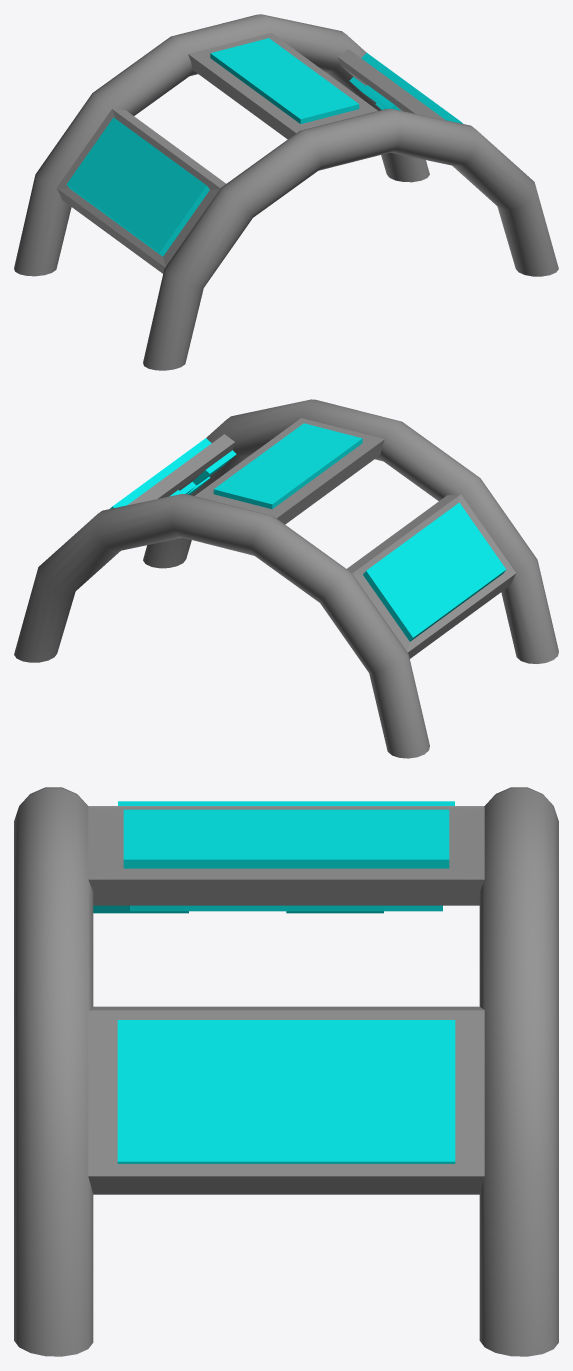
The model's file is Arch.fbx.
The picture shows the model from 3 angles, top to bottom: view 1: azimuth 30°, elevation 25°; view 2: azimuth 150°, elevation 25°; view 3: azimuth 270°, elevation 25°; orthographic projection. The views are drawn at different scales.
Parts seen in each view (by area): view 1: pTorus3; view 2: pTorus3; view 3: pTorus3.
Boxes of the visible parts, x1,y1,x2,y2 form: pTorus3: (14, 14, 558, 370); pTorus3: (14, 399, 558, 758); pTorus3: (14, 787, 558, 1356).
Bounding box in the file's own units: 164 × 75.75 × 105.
